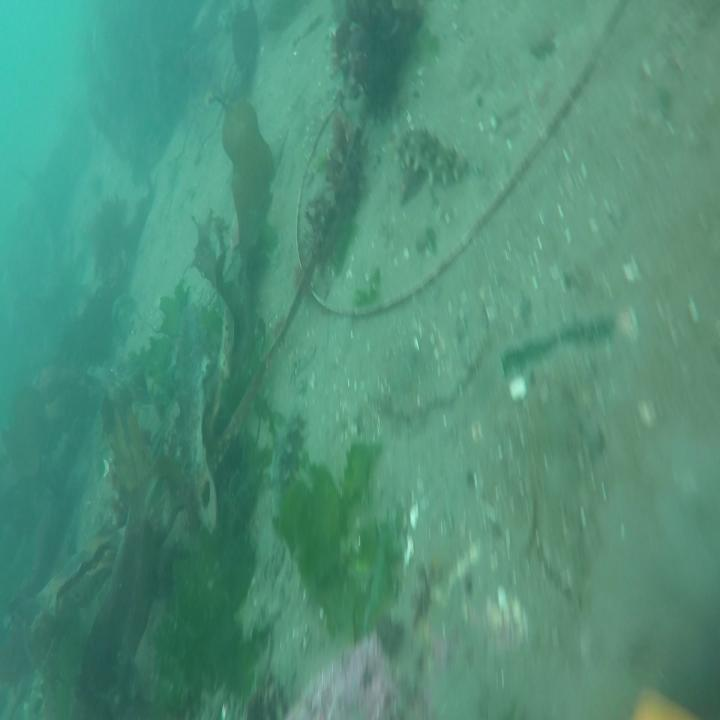holothurian: (394, 128, 472, 192)
